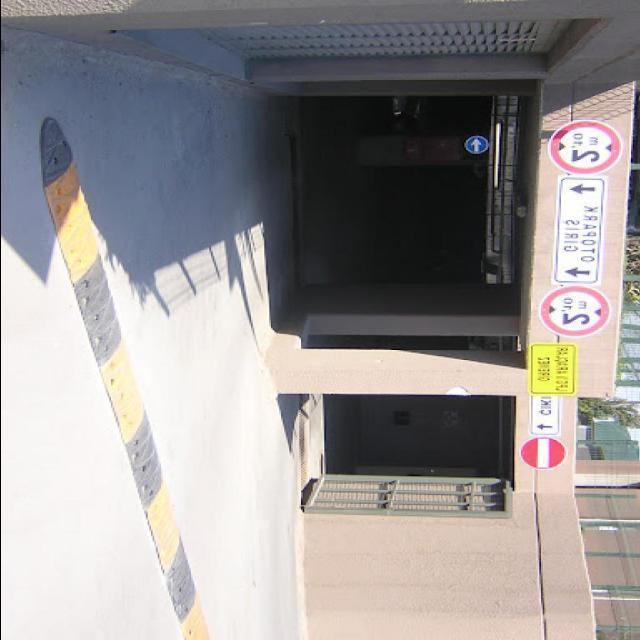speedbreaker: (32, 110, 226, 640)
